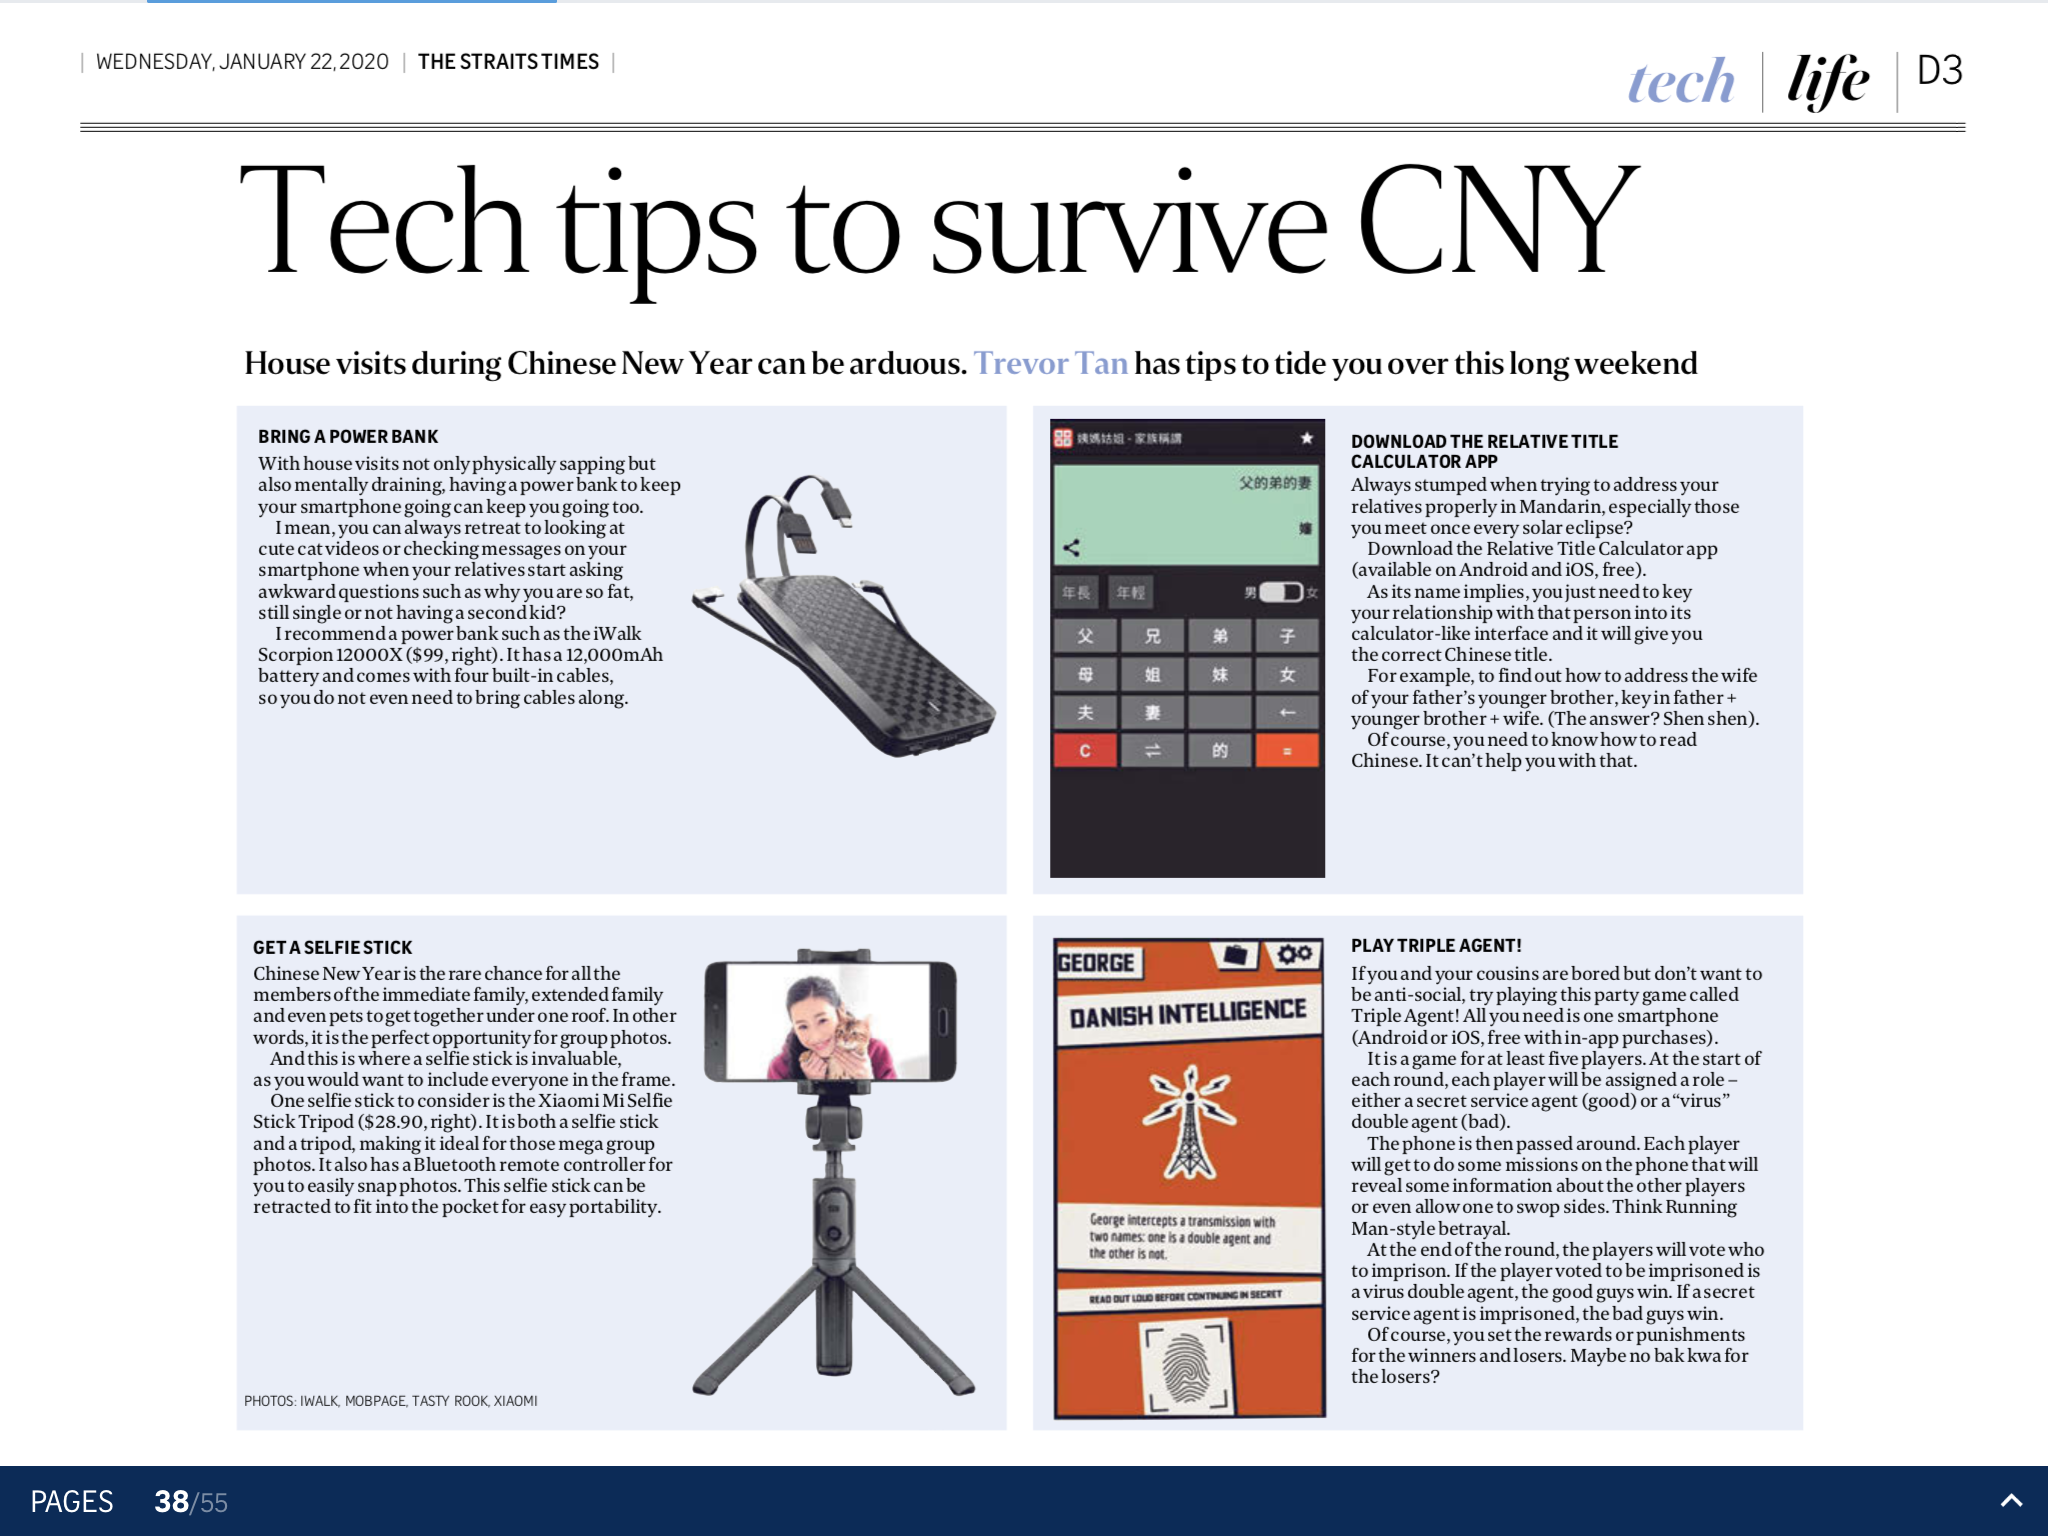Headline: (235, 157, 1646, 308)
Image: (1055, 936, 1327, 1417), (692, 942, 977, 1400), (1051, 416, 1326, 879), (690, 473, 998, 762)
Text: (1351, 933, 1767, 1388), (1351, 431, 1763, 773), (255, 424, 684, 710), (255, 937, 677, 1221)
